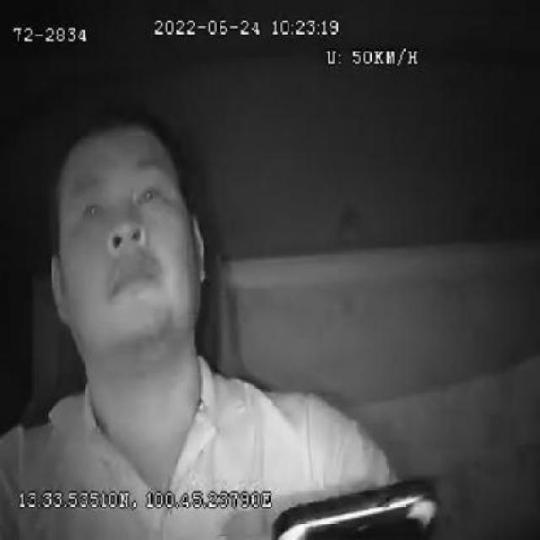phone: (275, 472, 441, 540)
